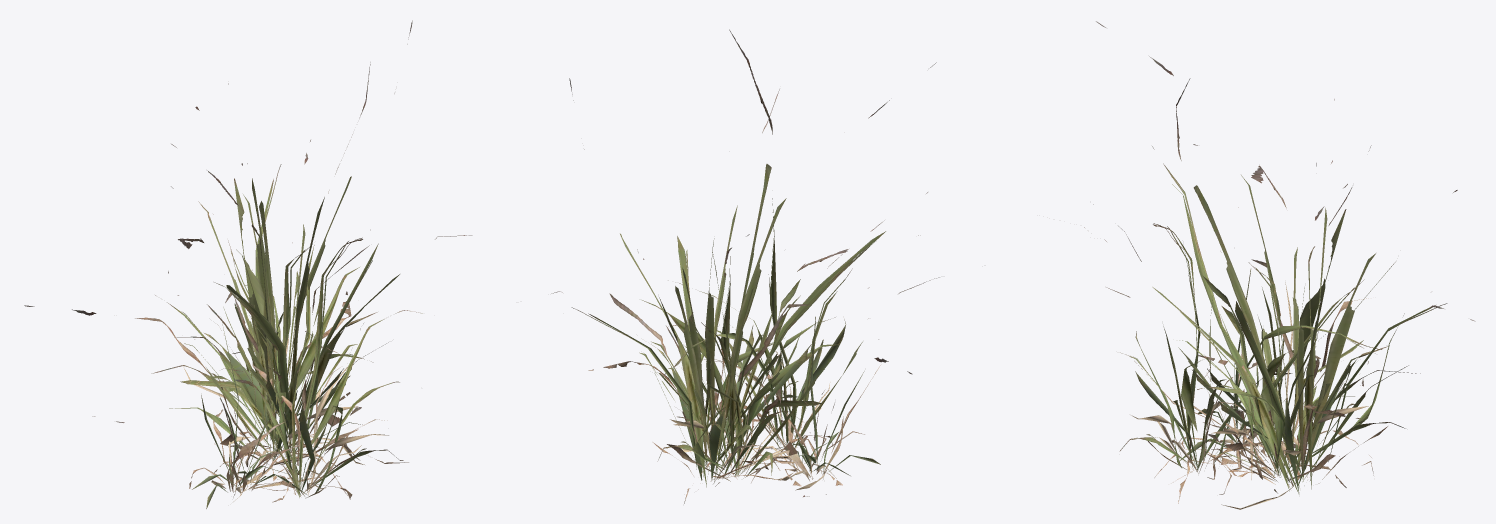
Rendered from grass_medium_02.glb.
3 views of the same model, side by side, from view 1: azimuth 30°, elevation 25°; view 2: azimuth 150°, elevation 25°; view 3: azimuth 270°, elevation 25° (orthographic). The views are drawn at different scales.
Visible parts, largest first — view 1: d_lod0, c_lod0, b_lod0, a_lod0; view 2: d_lod0, c_lod0, b_lod0, a_lod0; view 3: d_lod0, c_lod0, b_lod0, a_lod0.
Boxes of the visible parts, <box> form: d_lod0: <box>24,20,472,474</box>; c_lod0: <box>151,178,373,496</box>; b_lod0: <box>221,237,422,502</box>; a_lod0: <box>189,319,358,508</box>; d_lod0: <box>551,29,936,503</box>; c_lod0: <box>627,249,842,481</box>; b_lod0: <box>664,198,939,448</box>; a_lod0: <box>698,316,880,490</box>; d_lod0: <box>1084,21,1475,494</box>; c_lod0: <box>1106,209,1420,509</box>; b_lod0: <box>1093,204,1382,503</box>; a_lod0: <box>1131,269,1371,483</box>.
Bounding box in the file's own units: 0.3393 × 0.3776 × 0.3491.
1 material, 1 textured.
